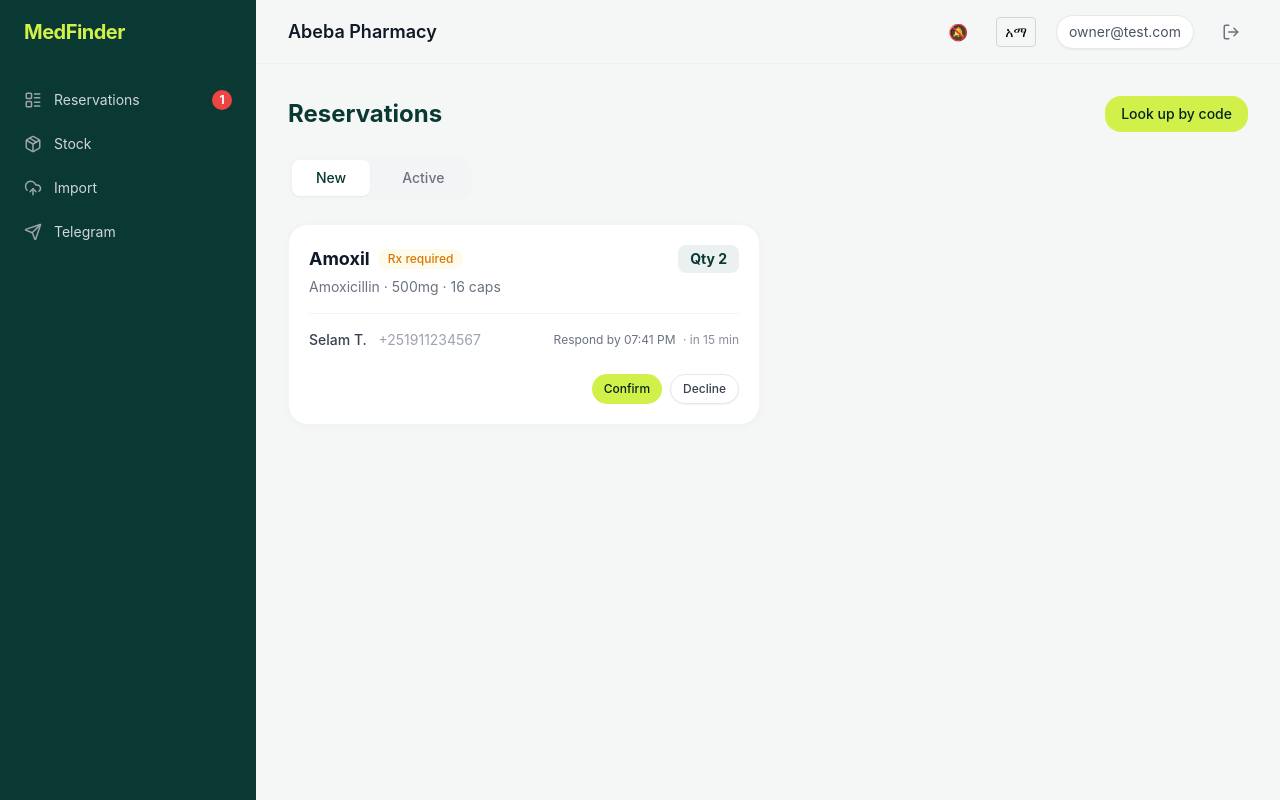
Test: ReservationsPage › opens the confirm dialog when Confirm is clicked
This screenshot has width=1280, height=800.
Expected: the text "Amoxil" is shown, [309,248,370,269]
Click the button "Confirm" at x=627, y=389, box [592,374,662,404]
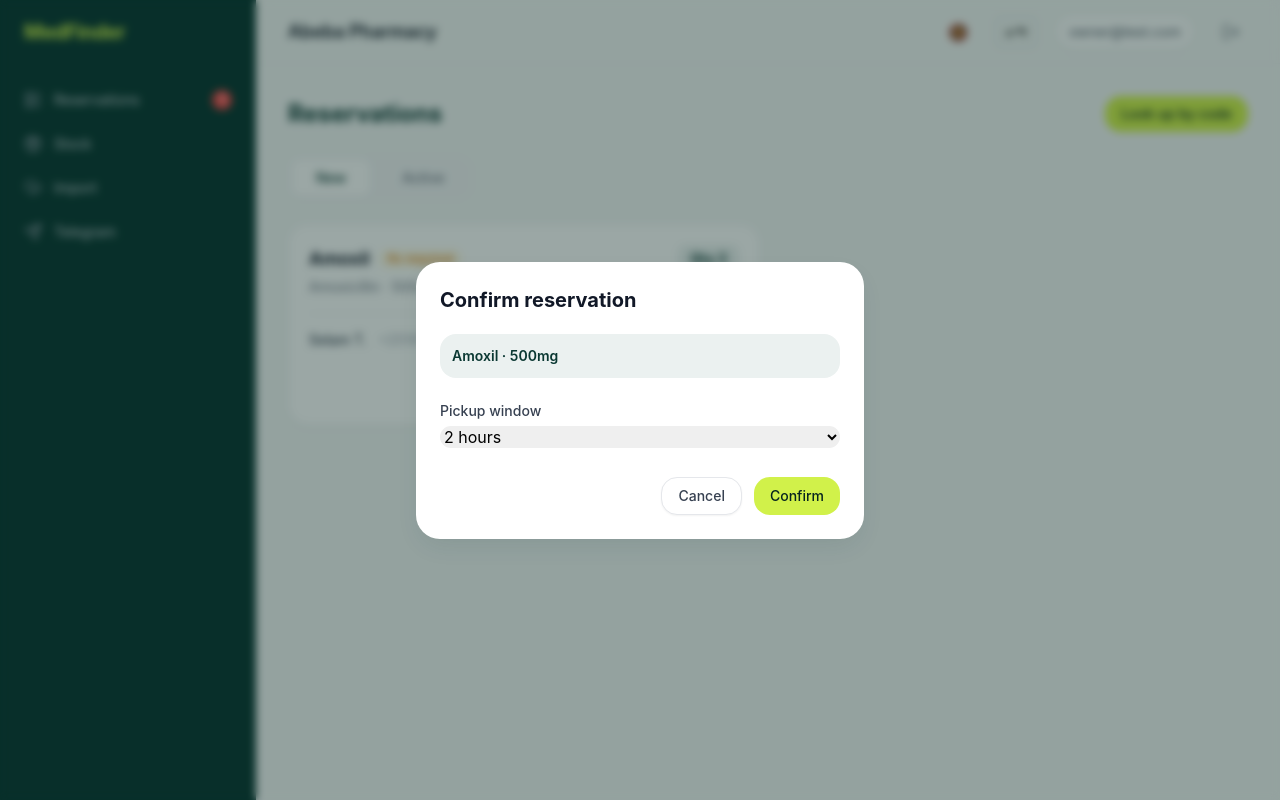
Now the dialog is shown, box [416,262,864,538]
Now the heading "Confirm reservation" is shown, box [440,288,636,312]
Now the text "Amoxil · 500mg" is shown, box [440,334,840,378]
